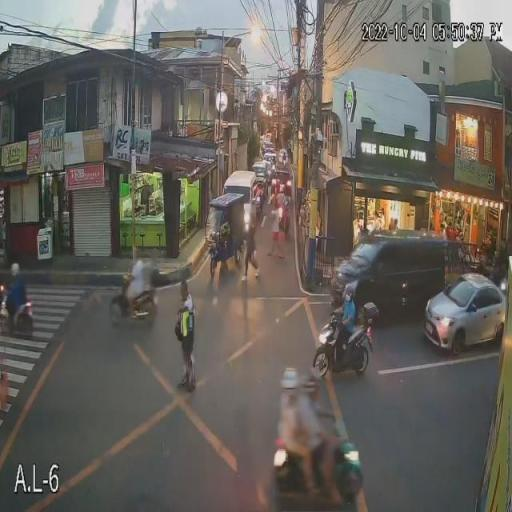helmet: (280, 367, 300, 390), (302, 376, 320, 392), (340, 283, 353, 300), (135, 250, 149, 264), (9, 262, 20, 276)
motorcycle: (272, 423, 363, 511), (312, 301, 380, 379), (108, 278, 161, 329), (0, 290, 34, 339), (276, 200, 289, 240), (250, 189, 264, 222)
rider: (278, 366, 332, 489), (301, 374, 344, 482), (331, 283, 358, 362), (121, 256, 155, 314), (5, 262, 28, 330)
